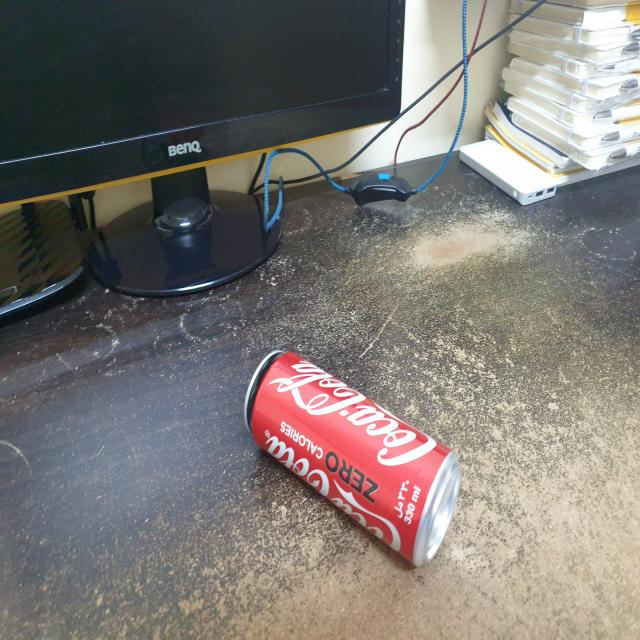non-organic waste: (240, 343, 468, 581)
